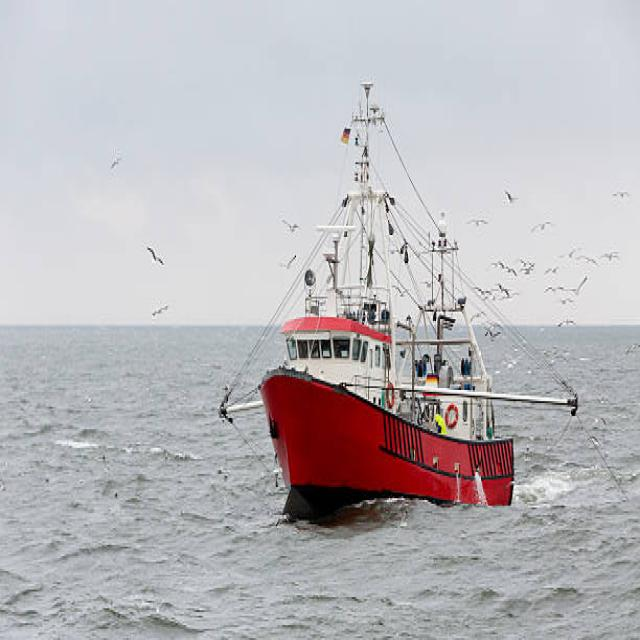Fishing Boat: (193, 63, 552, 551)
